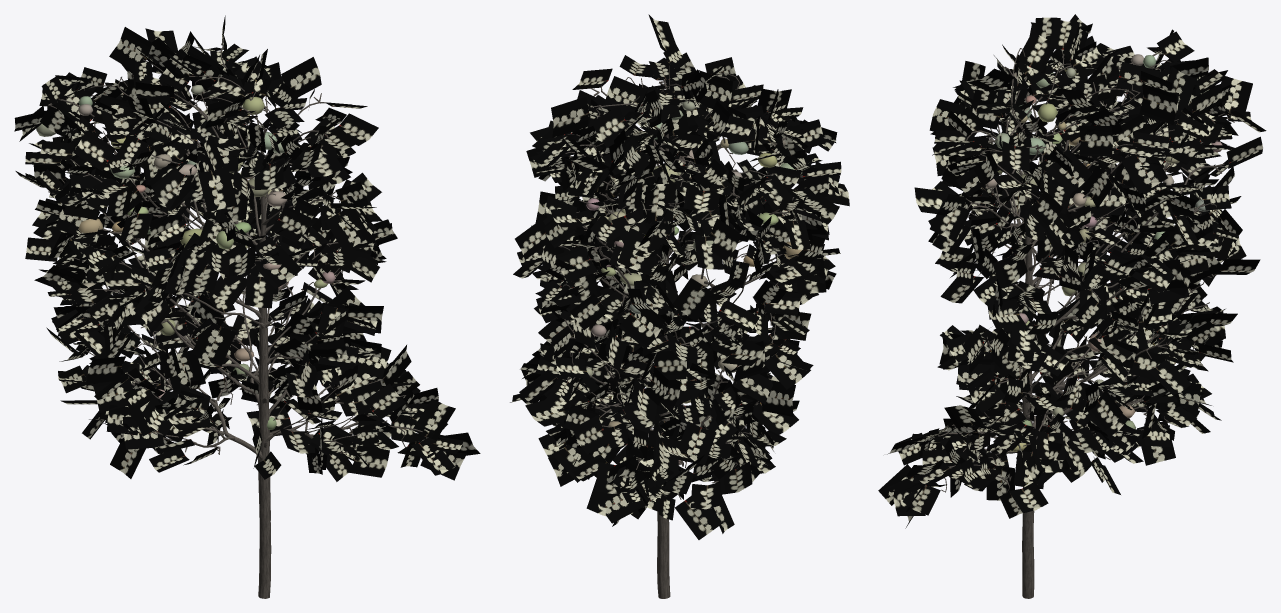
Rendered from tree_07_ginkgo_young.glb.
3 renders of one model, left to right at view 1: azimuth 30°, elevation 25°; view 2: azimuth 150°, elevation 25°; view 3: azimuth 270°, elevation 25°, orthographic. The views are drawn at different scales.
Parts seen in each view (by area): view 1: tree_07_ginkgo_young.leaves, tree_07_ginkgo_young.trunk_branches, tree_07_ginkgo_young.foliage_volume; view 2: tree_07_ginkgo_young.leaves, tree_07_ginkgo_young.trunk_branches, tree_07_ginkgo_young.foliage_volume; view 3: tree_07_ginkgo_young.leaves, tree_07_ginkgo_young.trunk_branches, tree_07_ginkgo_young.foliage_volume.
Boxes of the visible parts, x1,y1,x2,y2 form: tree_07_ginkgo_young.leaves: [14, 15, 480, 481]; tree_07_ginkgo_young.trunk_branches: [48, 40, 427, 598]; tree_07_ginkgo_young.foliage_volume: [36, 85, 336, 429]; tree_07_ginkgo_young.leaves: [510, 14, 849, 539]; tree_07_ginkgo_young.trunk_branches: [553, 65, 806, 598]; tree_07_ginkgo_young.foliage_volume: [571, 101, 802, 463]; tree_07_ginkgo_young.leaves: [878, 14, 1266, 528]; tree_07_ginkgo_young.trunk_branches: [924, 48, 1234, 598]; tree_07_ginkgo_young.foliage_volume: [985, 54, 1222, 451].
Bounding box in the file's own units: 7.91 × 11.65 × 7.54.
3 materials, 2 textured.
